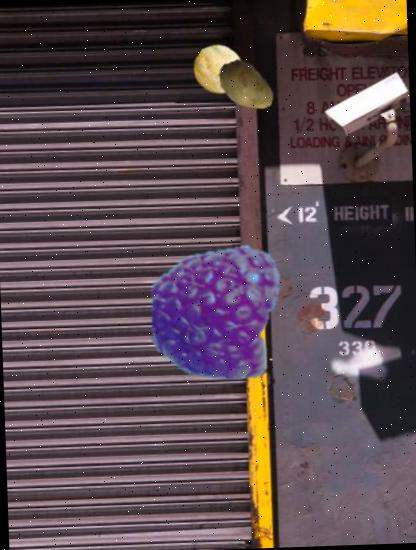Cantaloupe: (193, 43, 246, 96)
Potato: (214, 55, 278, 118)
Raspberry: (145, 241, 288, 384)
